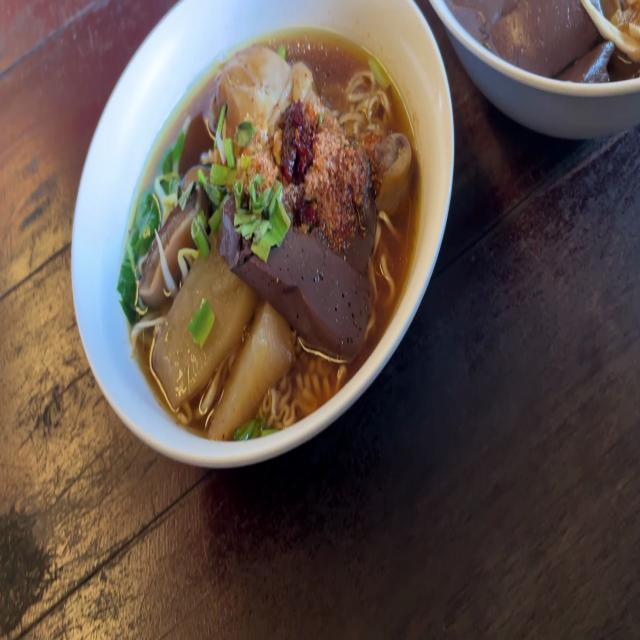boiled_chicken_blood_jelly: (451, 0, 609, 82), (273, 230, 374, 344)
chicken_drumstick: (212, 38, 411, 197)
chicken_shredded: (581, 0, 639, 63)
daikon_radish: (149, 254, 283, 424)
noodle: (114, 18, 434, 447), (423, 0, 640, 106)
